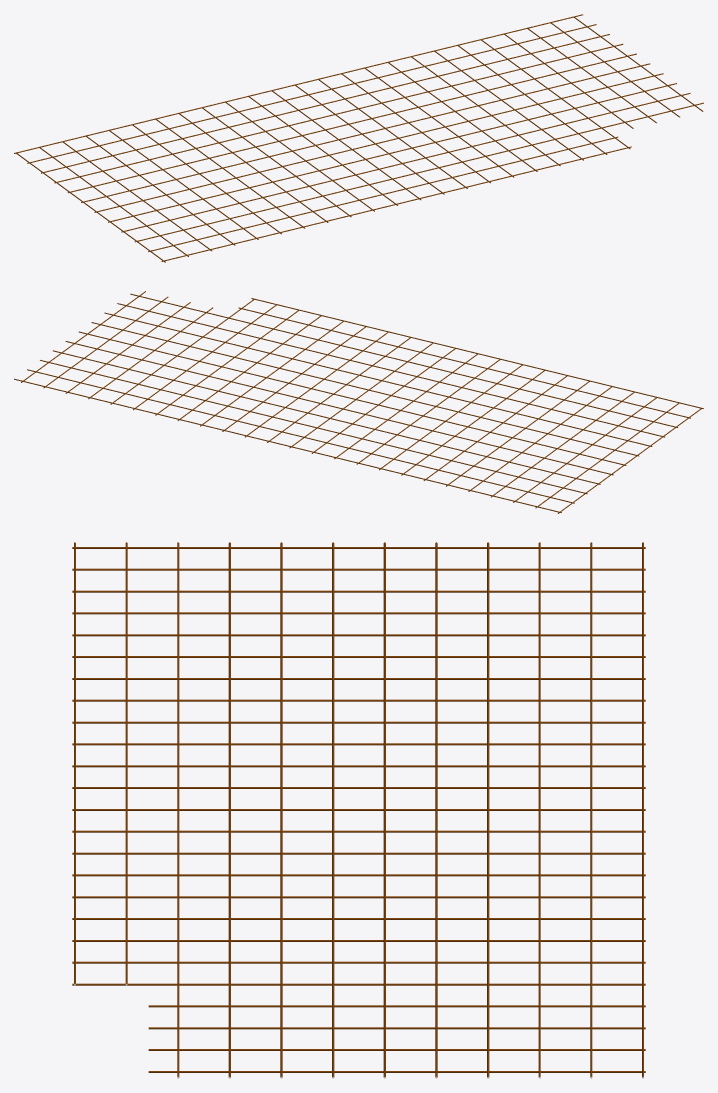
The model's file is SE82 Reinforcing mesh sheet cut 1.dae.
3 renders of one model, top to bottom at view 1: azimuth 30°, elevation 25°; view 2: azimuth 150°, elevation 25°; view 3: azimuth 270°, elevation 25°, orthographic. The views are drawn at different scales.
Parts seen in each view (by area): view 1: SketchUp (×12); view 2: SketchUp (×12); view 3: SketchUp (×37).
Part boxes in pixels (x1,y1,x2,y2): SketchUp (×12): [14, 14, 703, 261]; SketchUp (×12): [14, 293, 703, 512]; SketchUp (×37): [72, 542, 645, 1077].
Bounding box in the file's own units: 193 × 87.4 × 0.6299.
